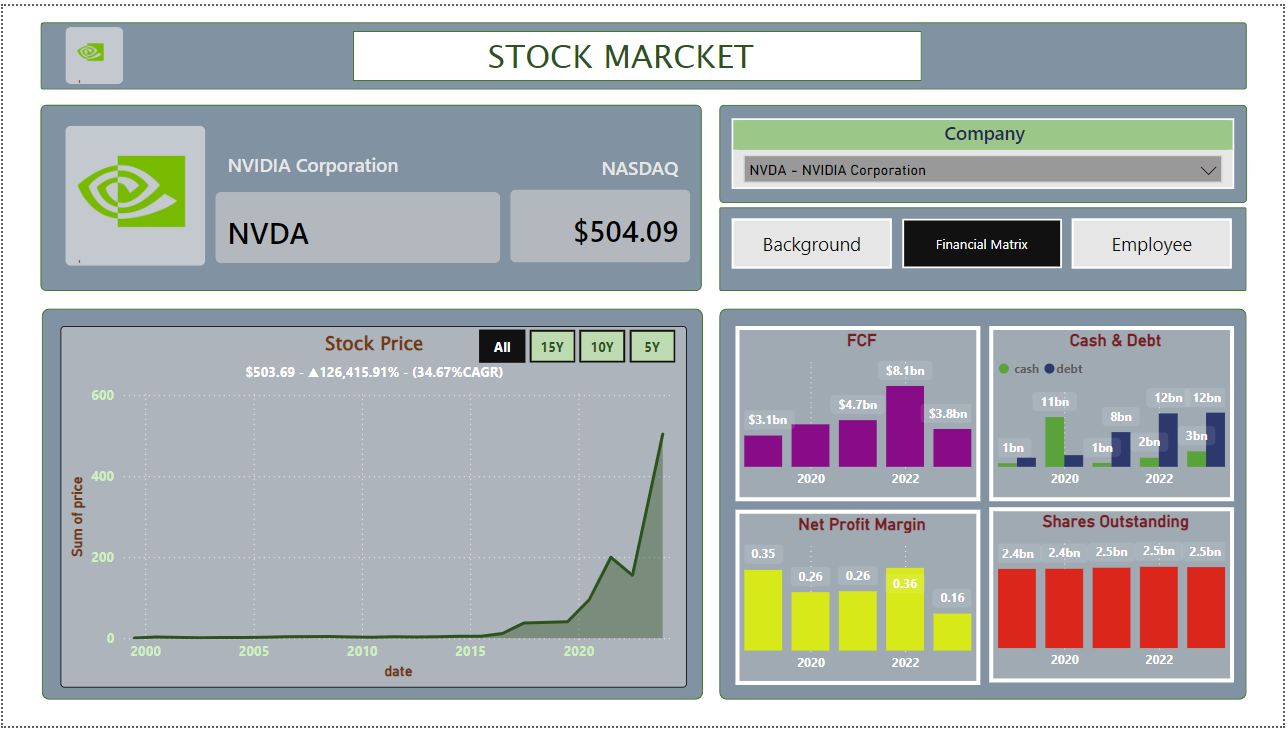

What the dashboard file says about the page in this screenshot:
{"tool":"powerbi","page":{"name":"Stock Price","canvas":[1280,720],"ordinal":0},"visuals":[{"type":"shape","box":[37.5,16.2,1206.2,67.5],"z":0,"group":"g3"},{"type":"shape","box":[716.3,98.5,528,98.5],"z":0,"group":"g4"},{"type":"shape","box":[37.5,98.8,661.2,186.2],"z":0,"group":"g2"},{"type":"group","id":"g1","title":"Stock Price","box":[38.8,302.5,661.2,391.2],"z":0},{"type":"shape","box":[38.8,302.5,661.2,391.2],"z":0,"group":"g1"},{"type":"shape","box":[716.2,302.5,527.5,391.2],"z":0,"group":"g5"},{"type":"cardVisual","fields":{"Data":["profile.'"]},"box":[57.5,16.2,68.8,67.5],"z":1000,"group":"g3"},{"type":"slicer","title":"Company","fields":{"Values":["profile.Ticker & Company Name"]},"box":[728.6,112,502.2,70.2],"z":1000,"group":"g4"},{"type":"cardVisual","fields":{"Data":["profile.'"]},"box":[57.5,115,150,150],"z":1000,"group":"g2"},{"type":"areaChart","title":"Stock Price","fields":{"Y":["Sum(revesta_price_history.price)"],"Category":["revesta_price_history.date"]},"box":[57.6,320,626.2,361.2],"z":1000,"group":"g1"},{"type":"columnChart","title":"FCF","fields":{"Y":["Sum(revesta_stock_financials.fcf)"],"Category":["revesta_stock_financials.year"]},"box":[732.3,320,245,175],"z":1000,"group":"g5"},{"type":"bookmarkNavigator","box":[476.6,323.5,197.5,33.3],"z":1500,"group":"g1"},{"type":"shape","box":[350,25,568.8,50],"z":2000,"group":"g3"},{"type":"group","id":"g2","title":"Price Card","box":[37.5,98.8,661.2,186.2],"z":2000},{"type":"cardVisual","fields":{"Data":["Min(profile.company)"]},"box":[207.5,121.3,283.8,57.5],"z":2000,"group":"g2"},{"type":"columnChart","title":"Net Profit Margin","fields":{"Y":["Sum(revesta_stock_financials.net_profit_margin)"],"Category":["revesta_stock_financials.year"]},"box":[732.4,503.7,245,175],"z":2000,"group":"g5"},{"type":"textbox","box":[333.7,16.2,602.5,78.8],"z":3000,"group":"g3"},{"type":"cardVisual","fields":{"Data":["Min(profile.ticker)"]},"box":[207.5,181.3,295,81.2],"z":3000,"group":"g2"},{"type":"clusteredColumnChart","title":"Cash & Debt","fields":{"Category":["revesta_stock_financials.year"],"Y":["Sum(revesta_stock_financials.cash)","Sum(revesta_stock_financials.debt)"]},"box":[985.8,320,244.9,175],"z":3000,"group":"g5"},{"type":"group","id":"g3","title":"Header","box":[37.5,16.2,1206.2,78.8],"z":4000},{"type":"cardVisual","fields":{"Data":["Sum(profile.price)"]},"box":[503.1,178.2,190.6,83.5],"z":4000,"group":"g2"},{"type":"columnChart","title":"Shares Outstanding","fields":{"Y":["Sum(revesta_stock_financials.shares_outstanding)"],"Category":["revesta_stock_financials.year"]},"box":[986.2,501.3,245,175],"z":4000,"group":"g5"},{"type":"cardVisual","fields":{"Data":["Min(profile.exchange)"]},"box":[525,123.3,167.5,57.5],"z":5000,"group":"g2"},{"type":"shape","box":[716.2,201.2,527.5,83.8],"z":5000},{"type":"bookmarkNavigator","box":[728.8,212.5,502.5,50],"z":6000},{"type":"group","id":"g4","title":"Company","box":[716.3,98.5,528,98.5],"z":7000},{"type":"group","id":"g5","title":"Financial Matrix","box":[716.2,302.5,527.5,391.2],"z":8000}]}

Visuals, with their boxes in screenshot pixels (x1, y1, x2, y2), scaled from the page's 1280x720 canvas onto the 1288x734 screenshot:
shape: [x1=38, y1=17, x2=1251, y2=85]
shape: [x1=721, y1=100, x2=1252, y2=201]
shape: [x1=38, y1=101, x2=703, y2=291]
"Stock Price" group: [x1=39, y1=308, x2=704, y2=707]
shape: [x1=39, y1=308, x2=704, y2=707]
shape: [x1=721, y1=308, x2=1251, y2=707]
cardVisual - profile.': [x1=58, y1=17, x2=127, y2=85]
"Company" slicer: [x1=733, y1=114, x2=1238, y2=186]
cardVisual - profile.': [x1=58, y1=117, x2=209, y2=270]
"Stock Price" areaChart: [x1=58, y1=326, x2=688, y2=694]
"FCF" columnChart: [x1=737, y1=326, x2=983, y2=505]
bookmarkNavigator: [x1=480, y1=330, x2=678, y2=364]
shape: [x1=352, y1=25, x2=925, y2=76]
"Price Card" group: [x1=38, y1=101, x2=703, y2=291]
cardVisual - Min(profile.company): [x1=209, y1=124, x2=494, y2=182]
"Net Profit Margin" columnChart: [x1=737, y1=513, x2=984, y2=692]
textbox: [x1=336, y1=17, x2=942, y2=97]
cardVisual - Min(profile.ticker): [x1=209, y1=185, x2=506, y2=268]
"Cash & Debt" clusteredColumnChart: [x1=992, y1=326, x2=1238, y2=505]
"Header" group: [x1=38, y1=17, x2=1251, y2=97]
cardVisual - Sum(profile.price): [x1=506, y1=182, x2=698, y2=267]
"Shares Outstanding" columnChart: [x1=992, y1=511, x2=1239, y2=689]
cardVisual - Min(profile.exchange): [x1=528, y1=126, x2=697, y2=184]
shape: [x1=721, y1=205, x2=1251, y2=291]
bookmarkNavigator: [x1=733, y1=217, x2=1239, y2=268]
"Company" group: [x1=721, y1=100, x2=1252, y2=201]
"Financial Matrix" group: [x1=721, y1=308, x2=1251, y2=707]
